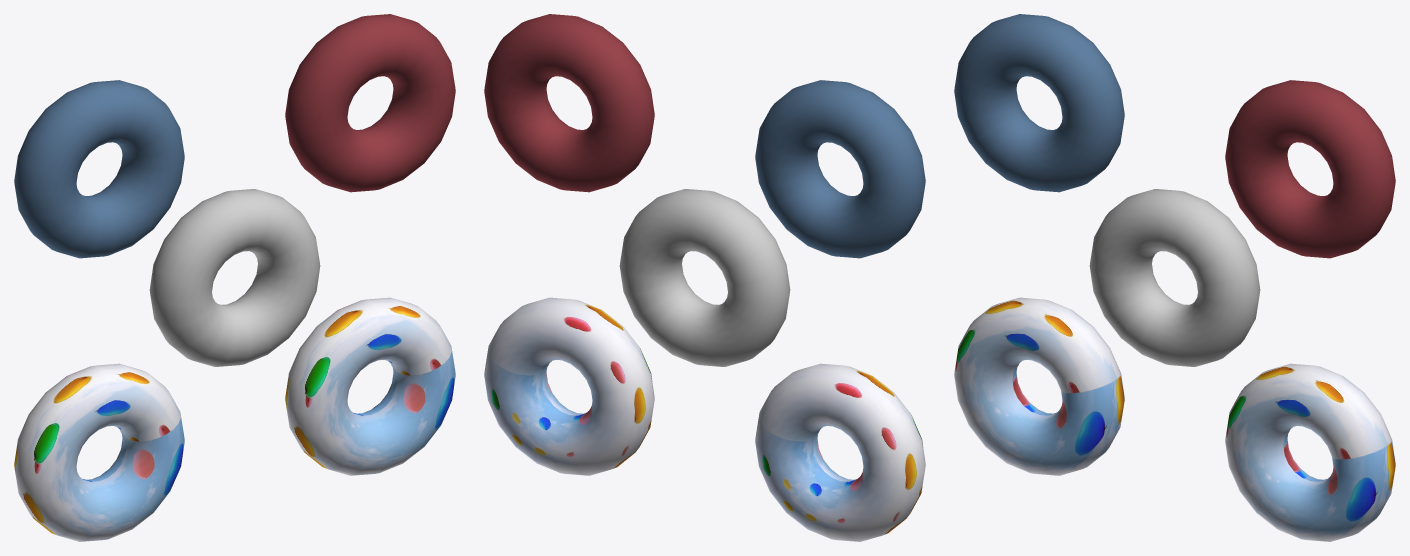
File: BallNormal02.fbx
3 renders of one model, left to right at view 1: azimuth 30°, elevation 25°; view 2: azimuth 150°, elevation 25°; view 3: azimuth 330°, elevation 25°, orthographic.
Parts seen in each view (by area): view 1: pTorus6; view 2: pTorus6; view 3: pTorus6.
Part boxes in pixels (bbox=[...]): pTorus6: bbox=[14, 14, 455, 541]; pTorus6: bbox=[484, 14, 925, 541]; pTorus6: bbox=[954, 14, 1395, 541].
Bounding box in the file's own units: 8 × 8 × 1.
